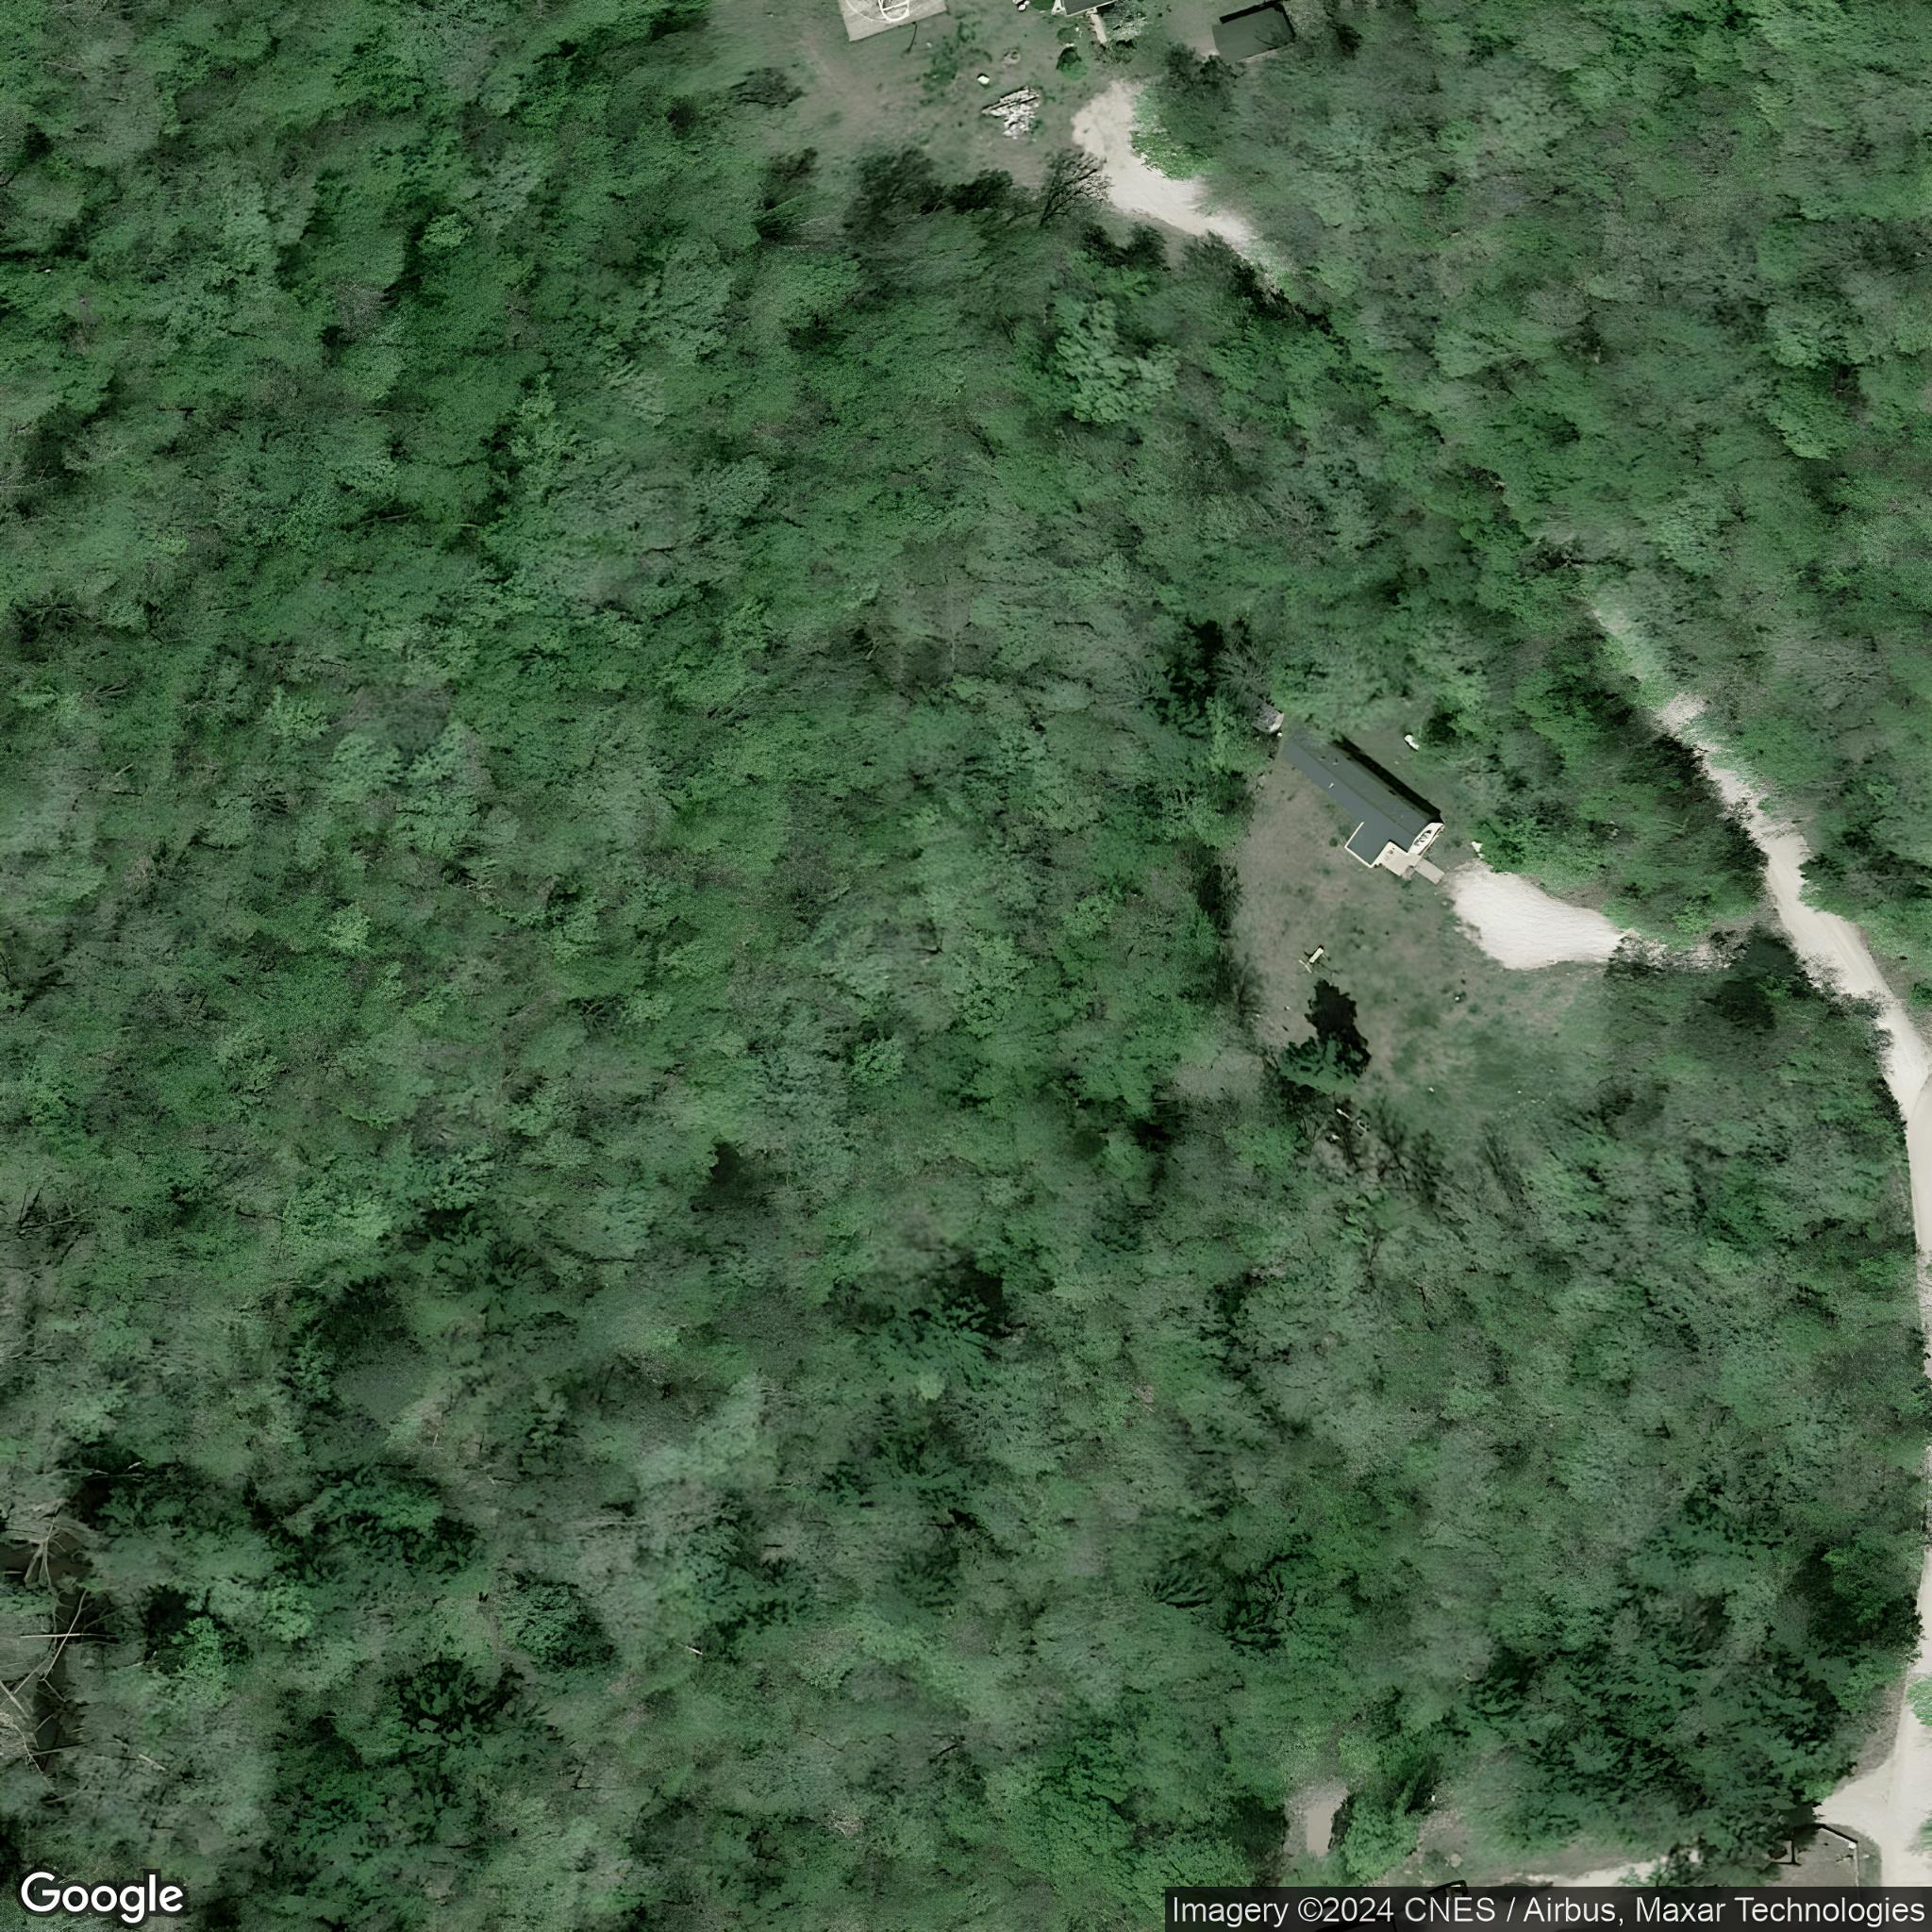Garage: (1208, 5, 1297, 67)
House: (1058, 0, 1116, 19)
Propane: (1403, 731, 1422, 754), (1306, 945, 1325, 964)
Trailer: (1281, 722, 1440, 869)
